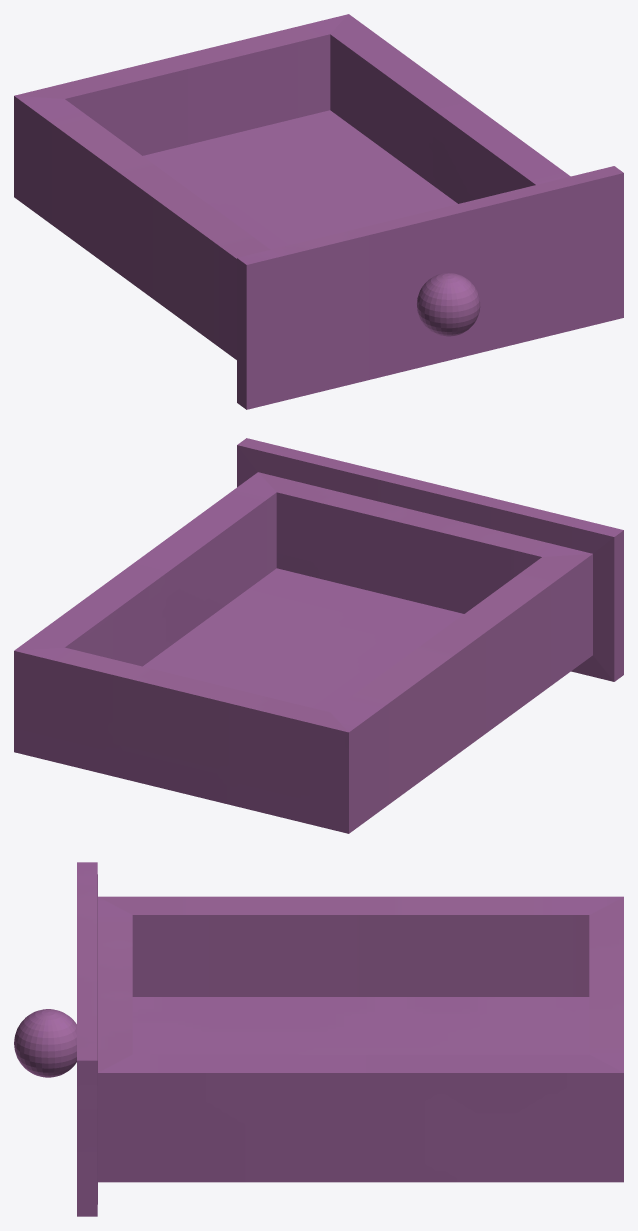
Rendered from Cajon.obj.
The picture shows the model from 3 angles, top to bottom: view 1: azimuth 30°, elevation 25°; view 2: azimuth 150°, elevation 25°; view 3: azimuth 270°, elevation 25°; orthographic projection. The views are drawn at different scales.
Parts seen in each view (by area): view 1: Plano; view 2: Plano; view 3: Plano.
Boxes of the visible parts, <box> form: Plano: <box>14,14,623,409</box>; Plano: <box>14,438,623,833</box>; Plano: <box>14,862,623,1216</box>.
Size of the model in its own units: 2.25 by 0.8269 by 2.93.
1 material, 1 textured.
